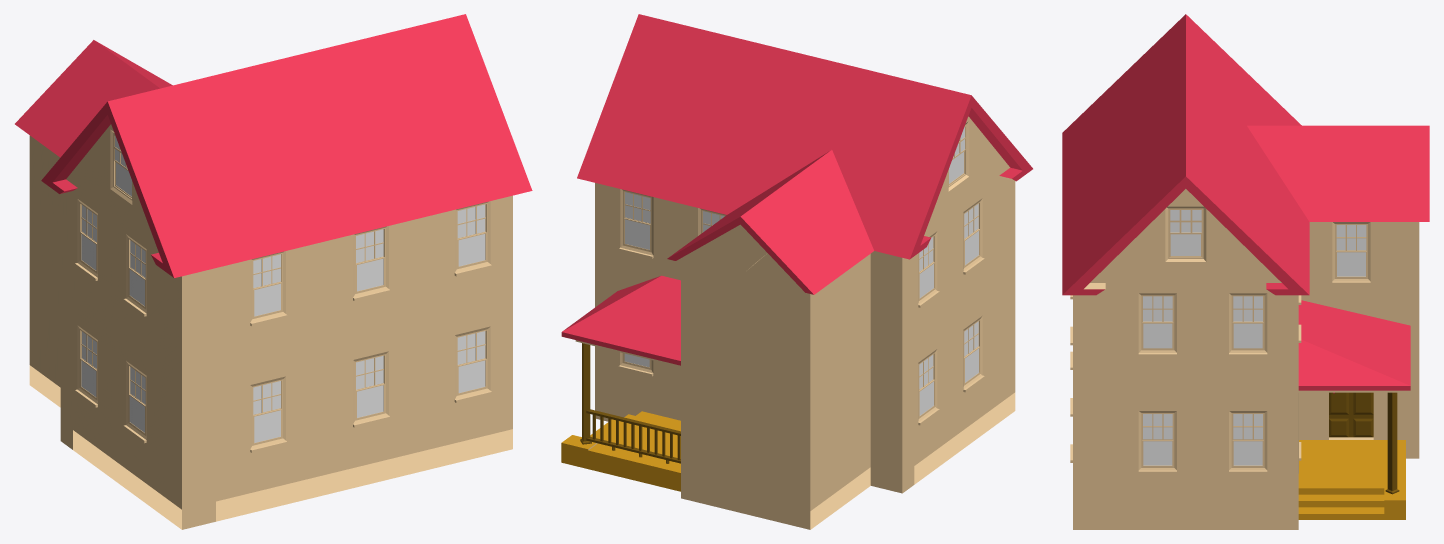
File: house6.FBX
3 renders of one model, left to right at view 1: azimuth 30°, elevation 25°; view 2: azimuth 150°, elevation 25°; view 3: azimuth 270°, elevation 25°, orthographic. The views are drawn at different scales.
Visible parts, largest first — view 1: Building_M; view 2: Building_M; view 3: Building_M.
Part boxes in pixels (x1,y1,x2,y2): Building_M: (15,14,532,529); Building_M: (561,14,1032,529); Building_M: (1062,14,1429,529).
Bounding box in the file's own units: 745 × 769 × 712.
